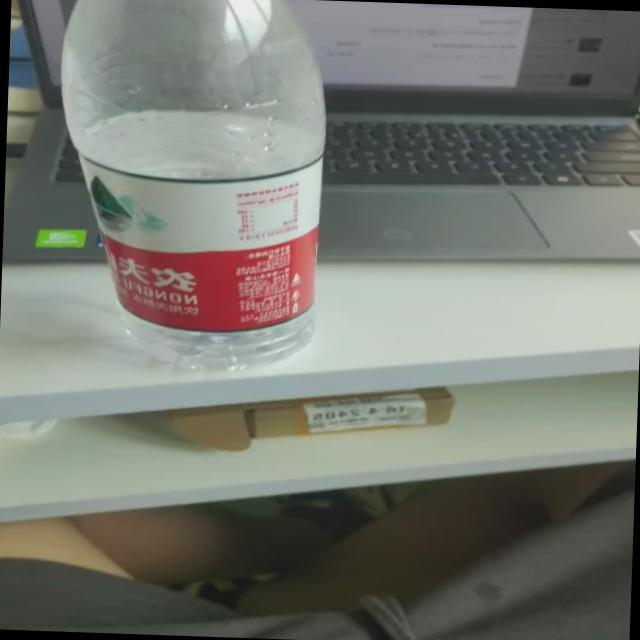good: (52, 0, 338, 378)
